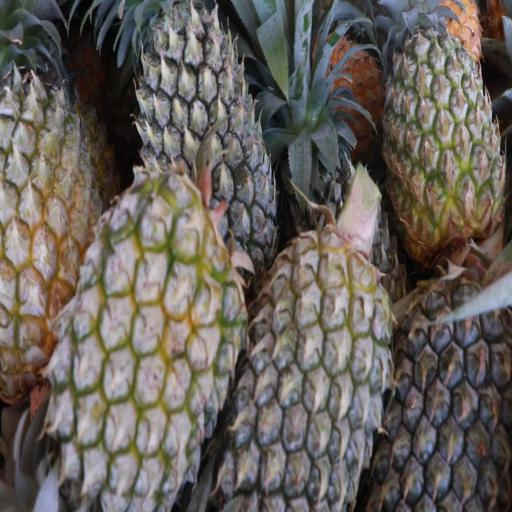------------------------------: (53, 180, 240, 510), (0, 0, 103, 377), (382, 0, 498, 246)
